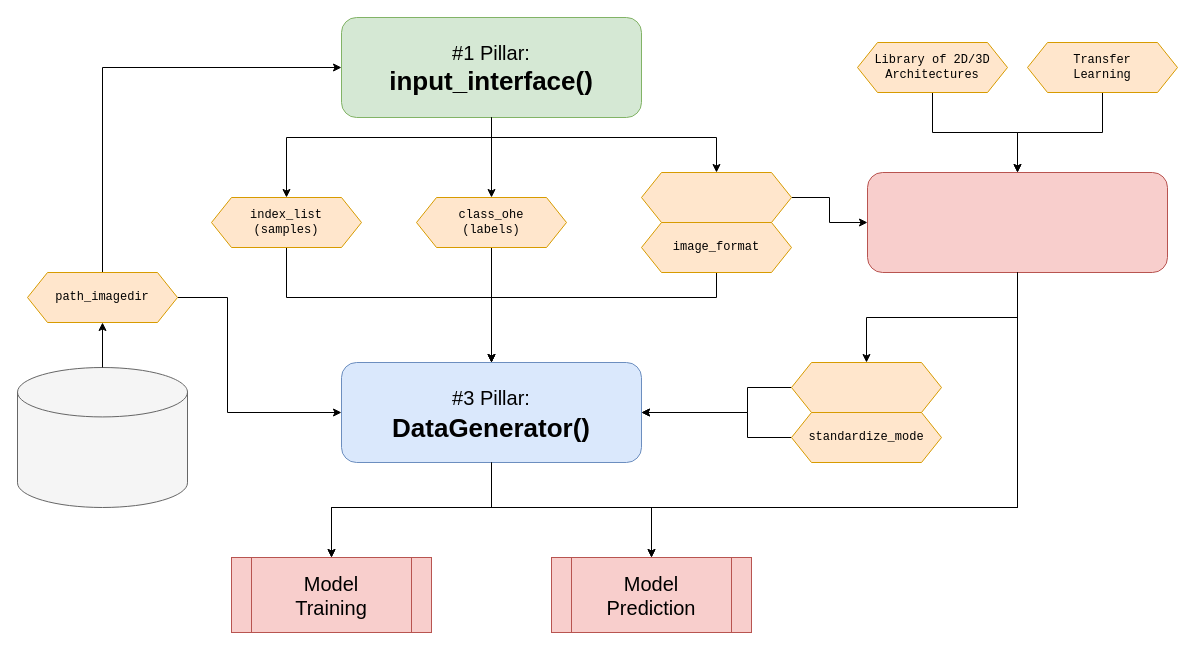
The diagram is 1195 pixels wide and 650 high, and some of its shapes have lost their labels. Here are the shapes that lost their labels. From the top down, the centre of each, then its label:
At [716,197]: "class_n".
At [1017,222]: "#2 Pillar: NeuralNetwork()".
At [866,387]: "input_resolution".
At [102,437]: "Imaging Dataset".
